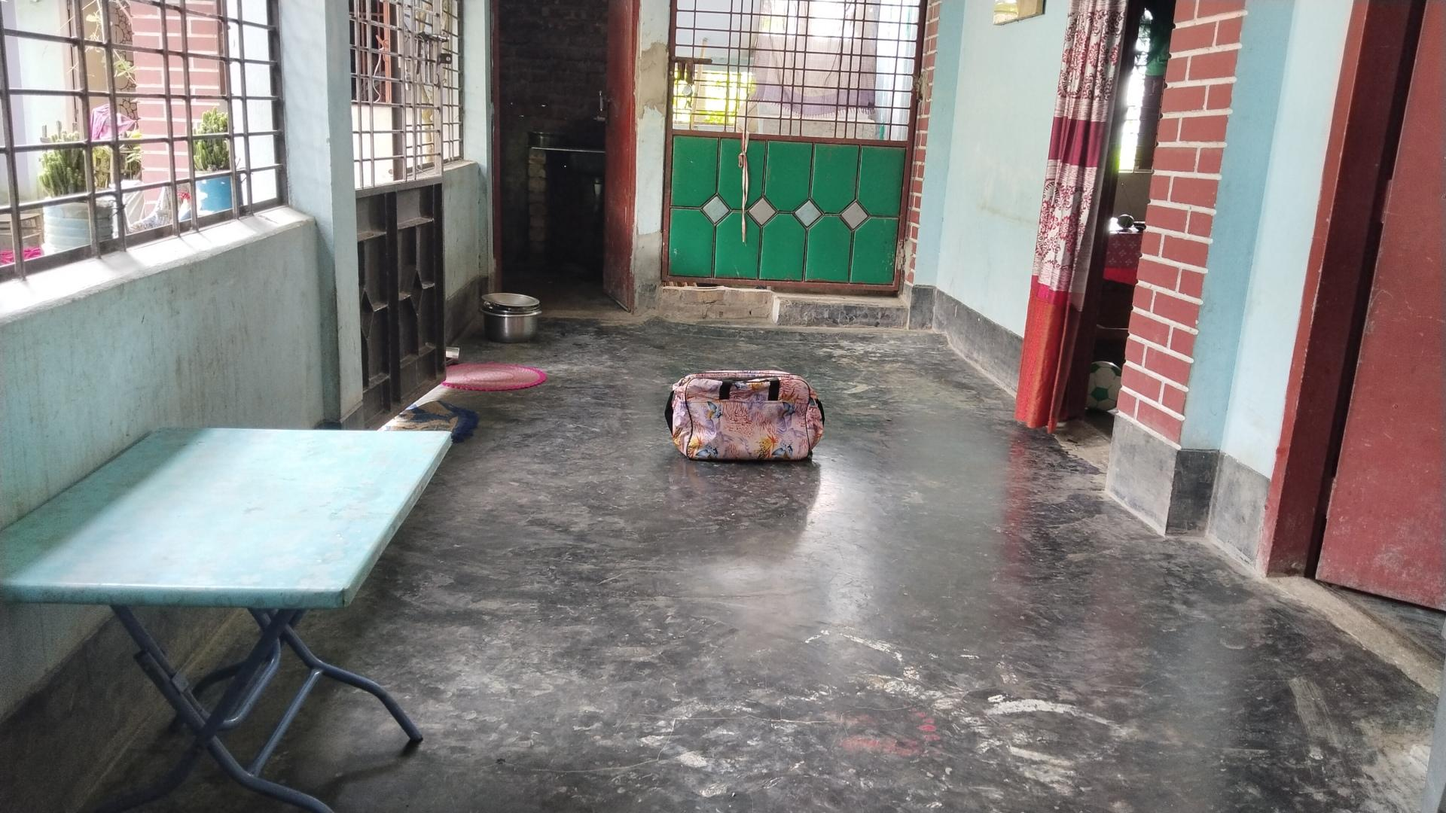Bag: (663, 369, 830, 463)
Door: (674, 0, 908, 299), (494, 4, 634, 309)
Plant: (39, 139, 115, 248), (183, 106, 257, 209)
Pot: (477, 296, 542, 344)
Table: (0, 416, 468, 813)
